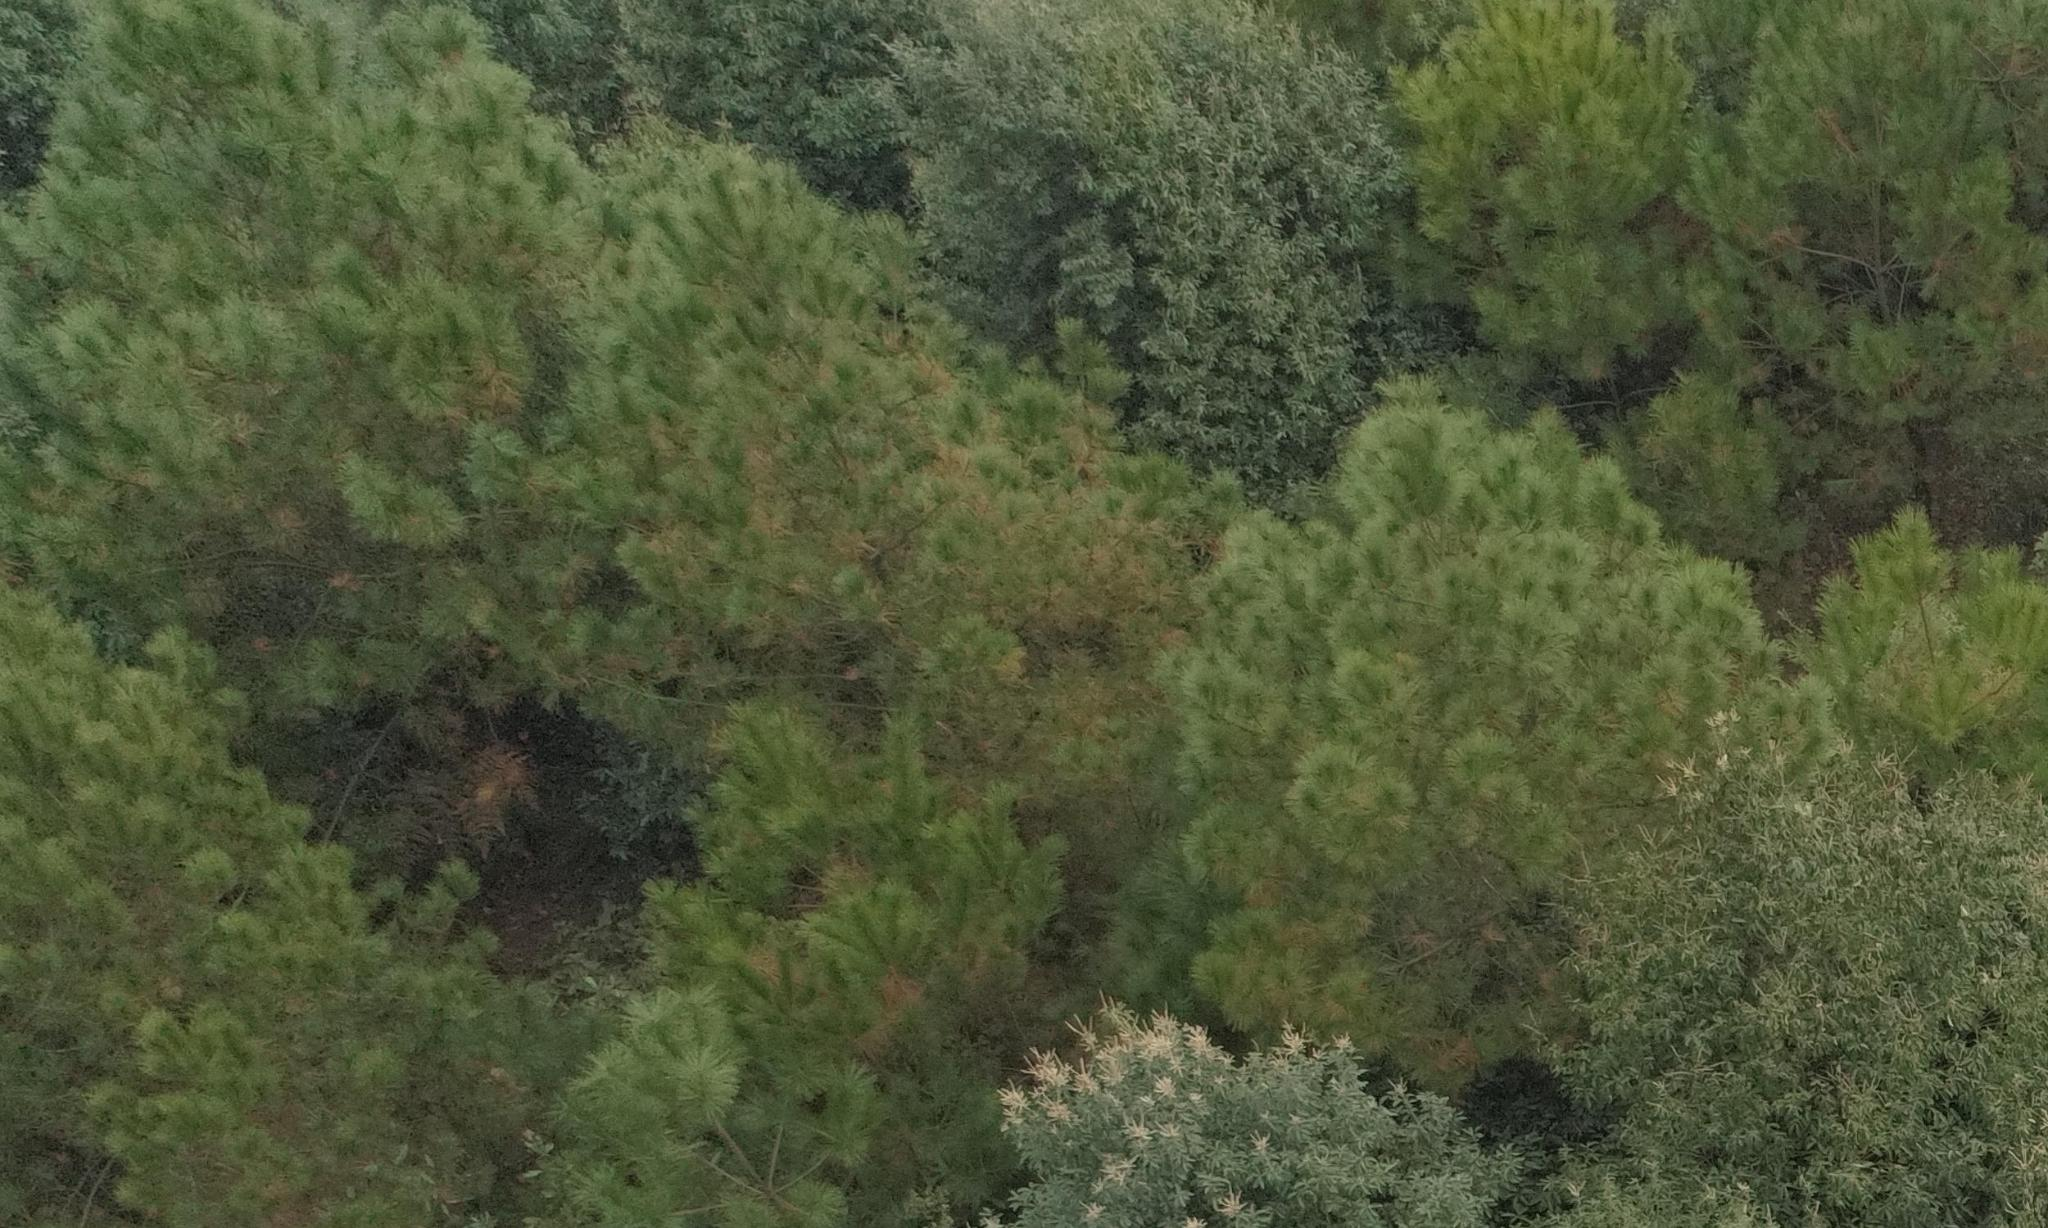light: (177, 183, 553, 879), (700, 300, 1169, 803), (1665, 42, 2029, 507), (1238, 750, 1655, 1126), (674, 876, 1017, 1094)
